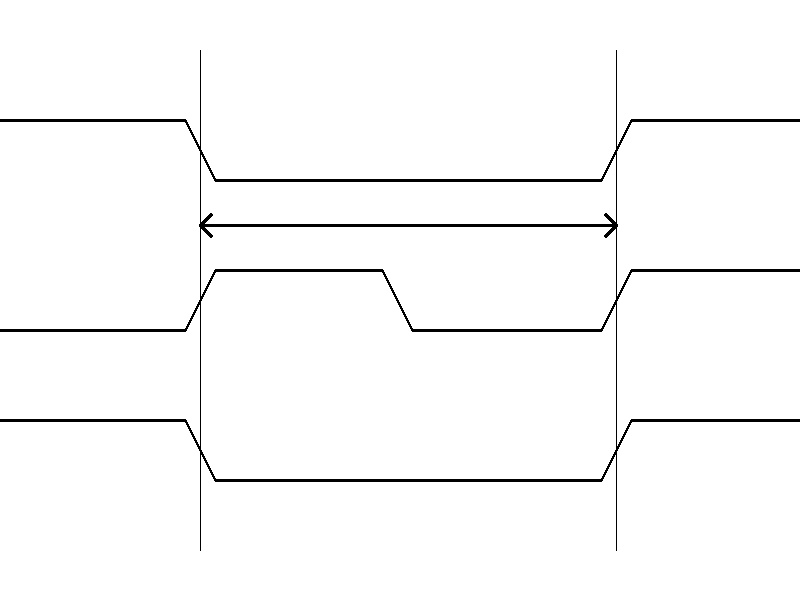double_arrow: (200, 210, 616, 240)
